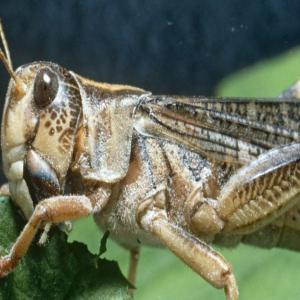locust: (5, 44, 300, 267)
